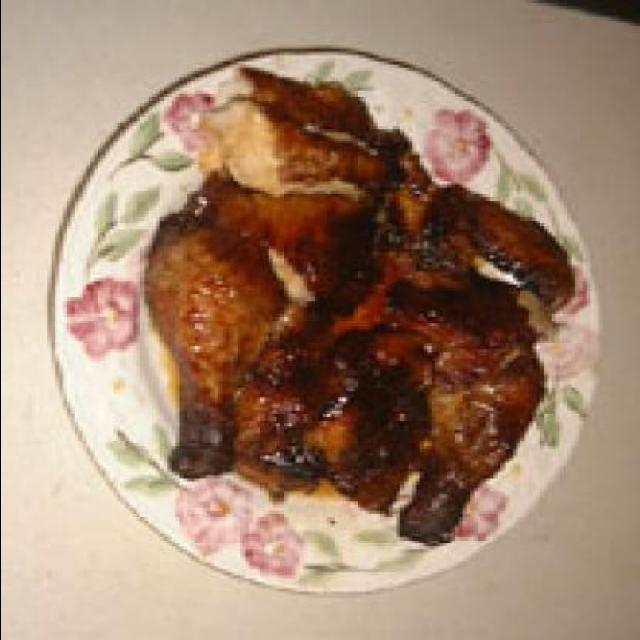Chicken roast: (158, 119, 550, 530)
